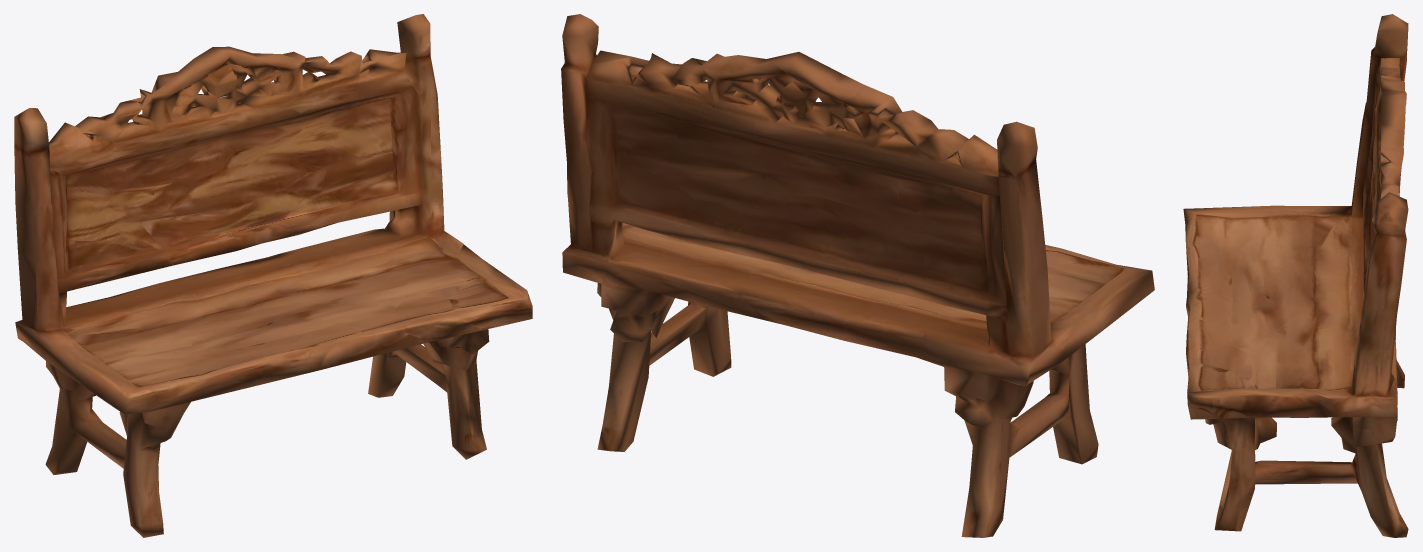
Rendered from bench.glb.
3 renders of one model, left to right at view 1: azimuth 30°, elevation 25°; view 2: azimuth 150°, elevation 25°; view 3: azimuth 270°, elevation 25°, orthographic. The views are drawn at different scales.
Visible parts, largest first — view 1: tripo_node_ebd881d1-b921-4acd-a9b1-505a0f191736; view 2: tripo_node_ebd881d1-b921-4acd-a9b1-505a0f191736; view 3: tripo_node_ebd881d1-b921-4acd-a9b1-505a0f191736.
Boxes of the visible parts, box(x1,y1,x2,y2) form: tripo_node_ebd881d1-b921-4acd-a9b1-505a0f191736: box(14, 14, 532, 537); tripo_node_ebd881d1-b921-4acd-a9b1-505a0f191736: box(561, 14, 1154, 537); tripo_node_ebd881d1-b921-4acd-a9b1-505a0f191736: box(1183, 14, 1408, 537).
Bounding box in the file's own units: 0.8458 × 0.7467 × 0.4181.
Materials: 1 (1 with a texture image).
